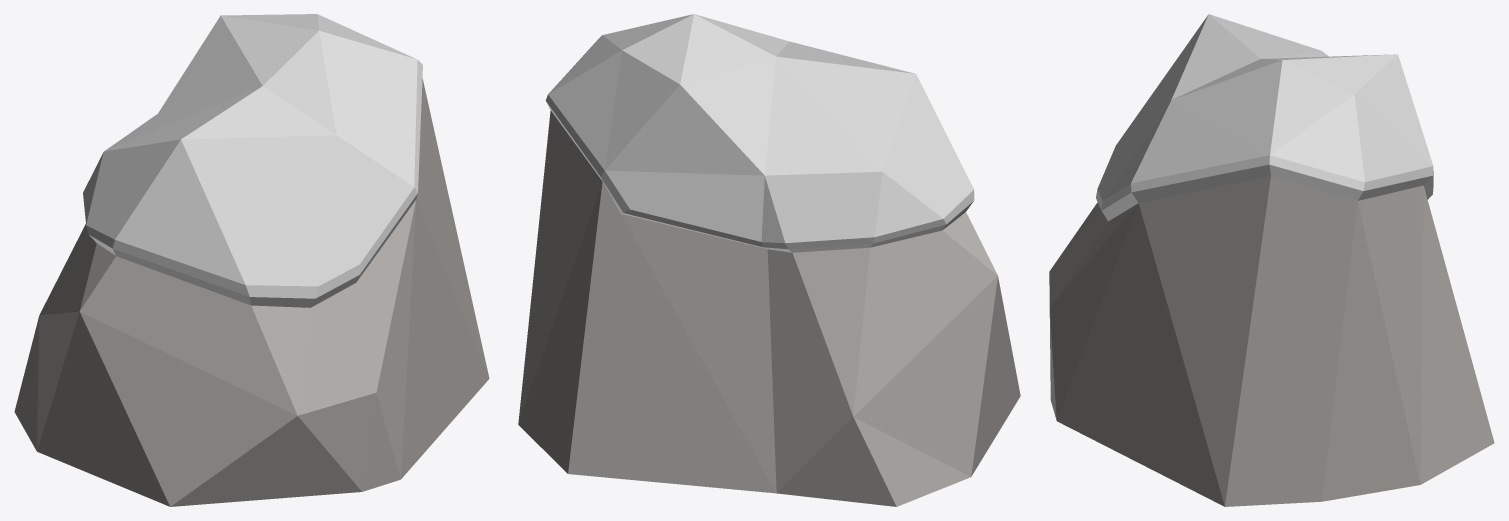
File: Rock01_Snow.fbx
3 views of the same model, side by side, from view 1: azimuth 30°, elevation 25°; view 2: azimuth 150°, elevation 25°; view 3: azimuth 270°, elevation 25° (orthographic). The views are drawn at different scales.
Visible parts, largest first — view 1: Rock01_Snow; view 2: Rock01_Snow; view 3: Rock01_Snow.
Boxes of the visible parts, left/top/right/bottom form: Rock01_Snow: left=14, top=14, right=489, bottom=506; Rock01_Snow: left=518, top=14, right=1020, bottom=506; Rock01_Snow: left=1049, top=14, right=1494, bottom=506.
Bounding box in the file's own units: 1.5 × 1.25 × 1.35.
